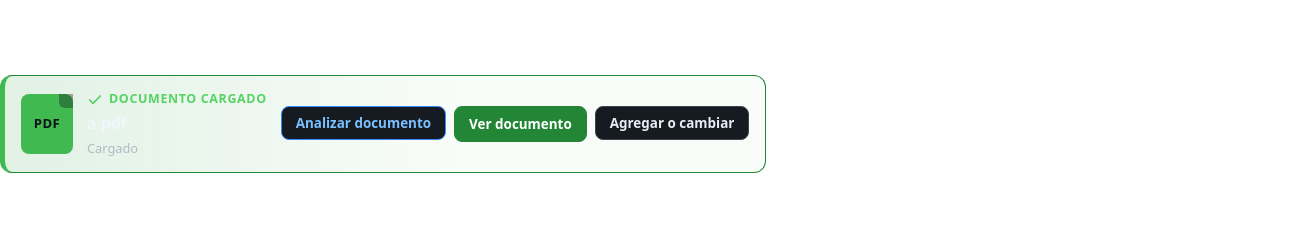
Test: Analizar documento › si no se pudo descargar lo dice y lo reintenta al volver a analizar
The width and height of the screenshot is (1307, 249).
Click the button "Analizar documento": x=363, y=123 top-left (281, 106), bottom-right (446, 140)
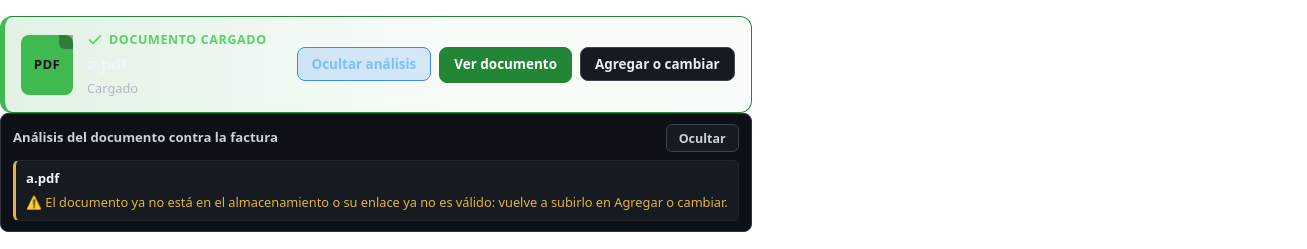
Now the text "ya no está en el almacenamiento" is shown, box top-left (45, 193), bottom-right (728, 211)
Click the button "Ocultar análisis": x=364, y=64 top-left (296, 47), bottom-right (431, 81)
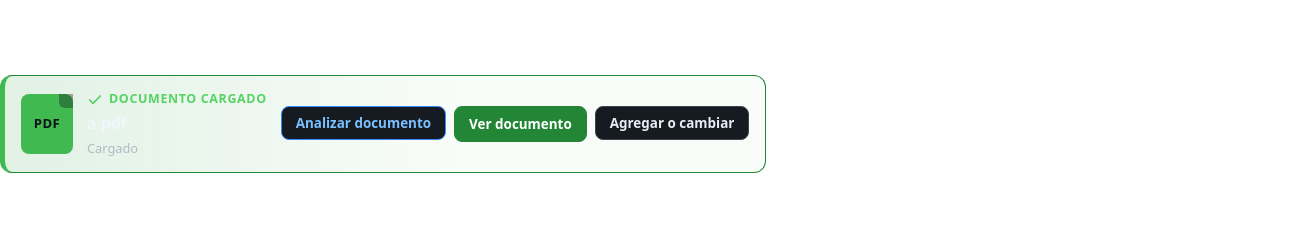
Click the button "Analizar documento": x=363, y=123 top-left (281, 106), bottom-right (446, 140)
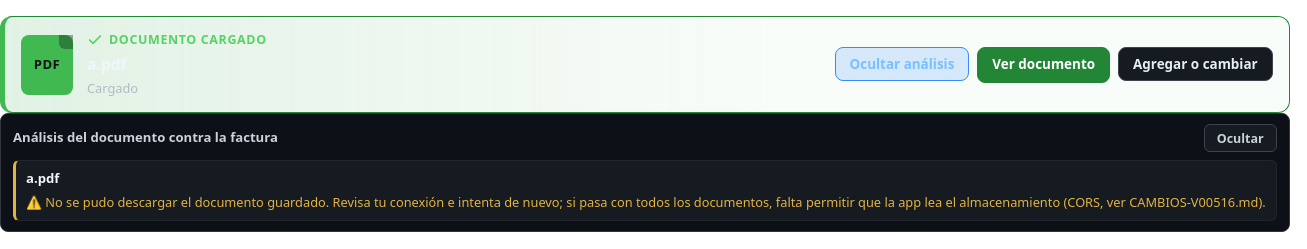
Now the text "falta permitir que la app lea el almacenamiento" is shown, box top-left (45, 193), bottom-right (1266, 211)
